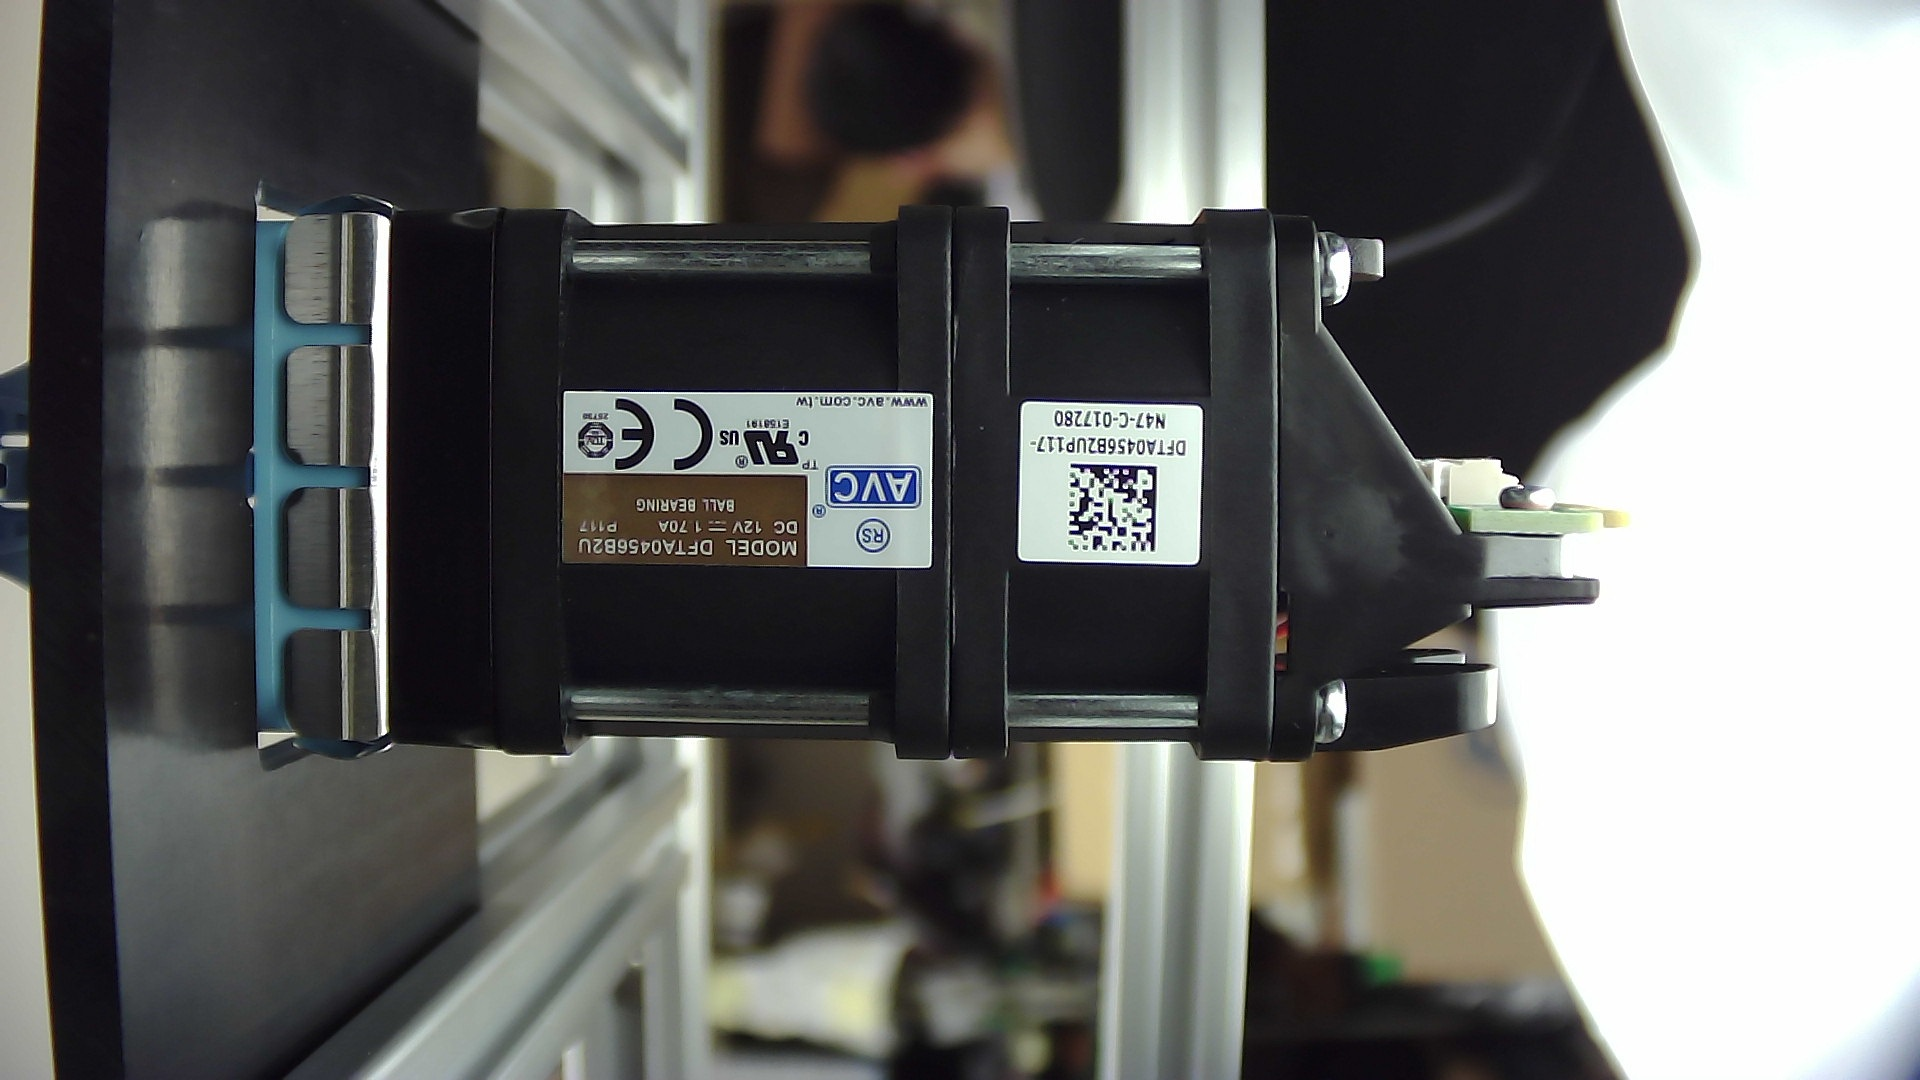5_0: (194, 161, 1639, 822)
